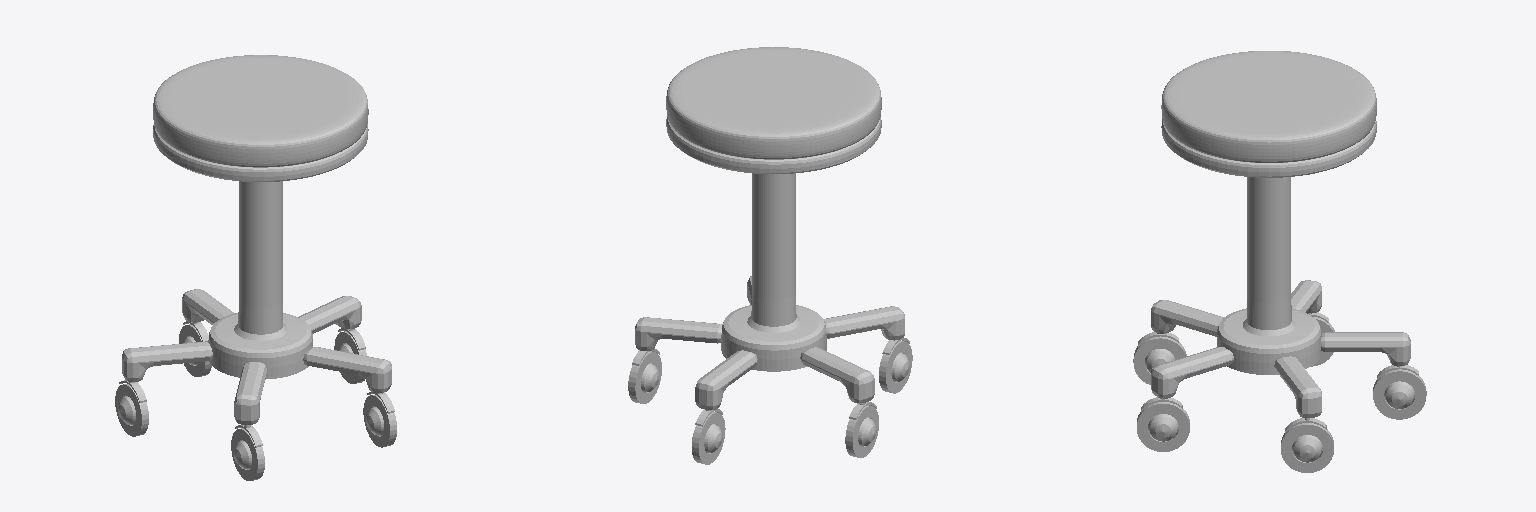
The model's file is lab_chair.obj.
The picture shows the model from 3 angles: view 1: azimuth 30°, elevation 25°; view 2: azimuth 150°, elevation 25°; view 3: azimuth 270°, elevation 25°; orthographic projection.
Parts seen in each view (by area): view 1: Circle.001, Circle, Cube_Cube.001, Circle.010, Circle.006, Circle.008, Circle.002; view 2: Circle.001, Circle, Cube_Cube.001, Circle.010, Circle.008, Circle.004, Circle.002; view 3: Circle.001, Circle, Cube_Cube.001, Circle.002, Circle.006, Circle.004, Circle.008, Sphere.001, Sphere, Sphere.002.
Boxes of the visible parts, x1,y1,x2,y2 form: Circle.001: [153, 55, 368, 167]; Circle: [153, 124, 368, 379]; Cube_Cube.001: [122, 289, 391, 424]; Circle.010: [115, 384, 148, 436]; Circle.006: [363, 395, 396, 447]; Circle.008: [231, 428, 264, 480]; Circle.002: [179, 324, 211, 376]; Circle.001: [666, 47, 881, 159]; Circle: [666, 117, 881, 371]; Cube_Cube.001: [635, 276, 904, 409]; Circle.010: [845, 405, 878, 457]; Circle.008: [879, 341, 912, 393]; Circle.004: [628, 351, 661, 403]; Circle.002: [692, 412, 725, 464]; Circle.001: [1161, 51, 1376, 162]; Circle: [1161, 119, 1376, 374]; Cube_Cube.001: [1151, 280, 1410, 417]; Circle.002: [1373, 369, 1426, 419]; Circle.006: [1137, 402, 1189, 451]; Circle.004: [1281, 423, 1333, 472]; Circle.008: [1133, 336, 1186, 384]; Sphere.001: [1292, 435, 1322, 462]; Sphere: [1384, 381, 1414, 408]; Sphere.002: [1148, 414, 1178, 441].
Size of the model in its own units: 0.9728 by 1.25 by 1.02.